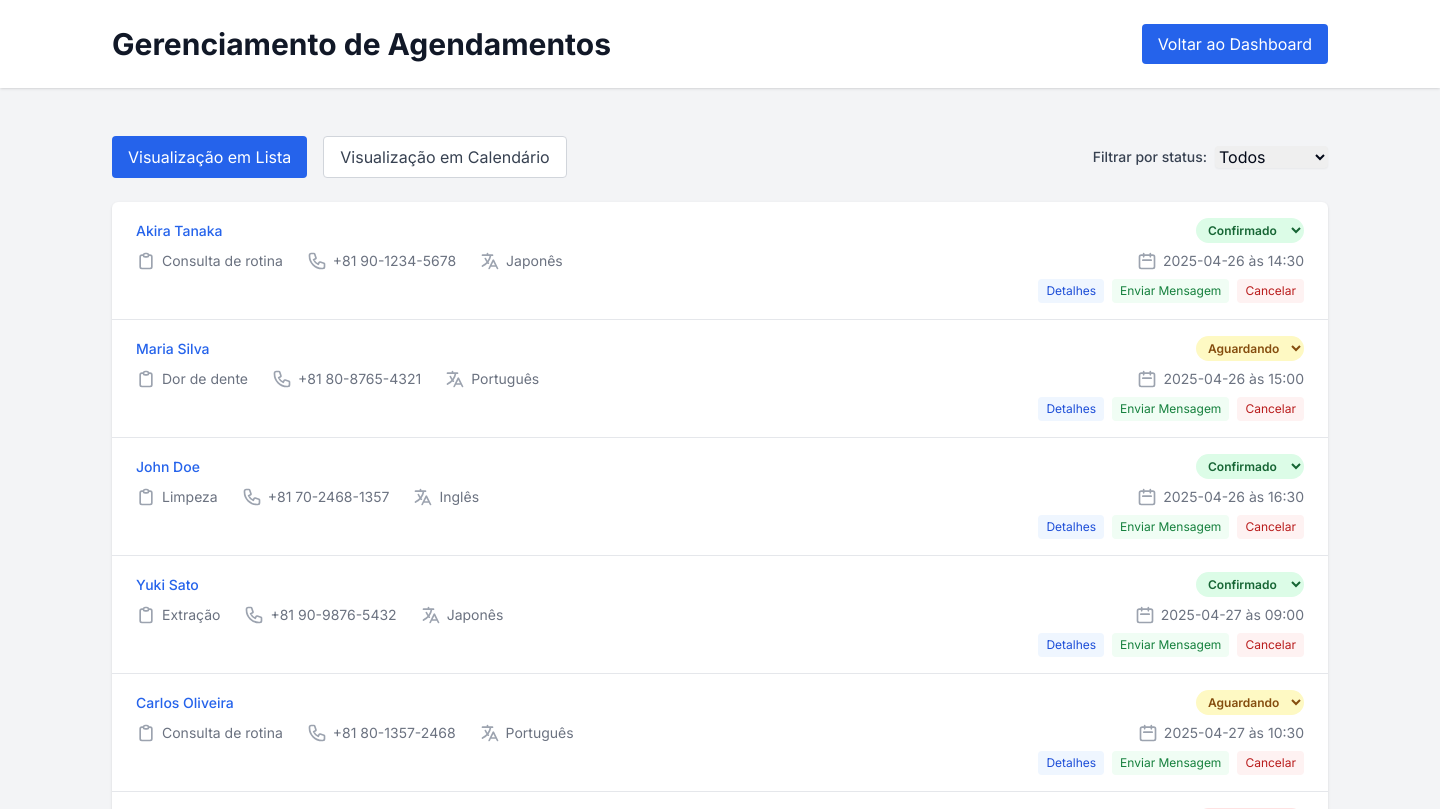
Test: AgendamentosPage › filtra agendamentos por status
The image size is (1440, 809).
Expected: the text "Akira Tanaka" is shown, x1=136 y1=220 x2=222 y2=240
Expected: the text "Maria Silva" is shown, x1=136 y1=338 x2=210 y2=358
# Filtrar por status "Confirmado"
Select "Confirmado" in the dropdown labelled "Filtrar por status:" at [1272, 157], box x1=1215 y1=146 x2=1328 y2=168
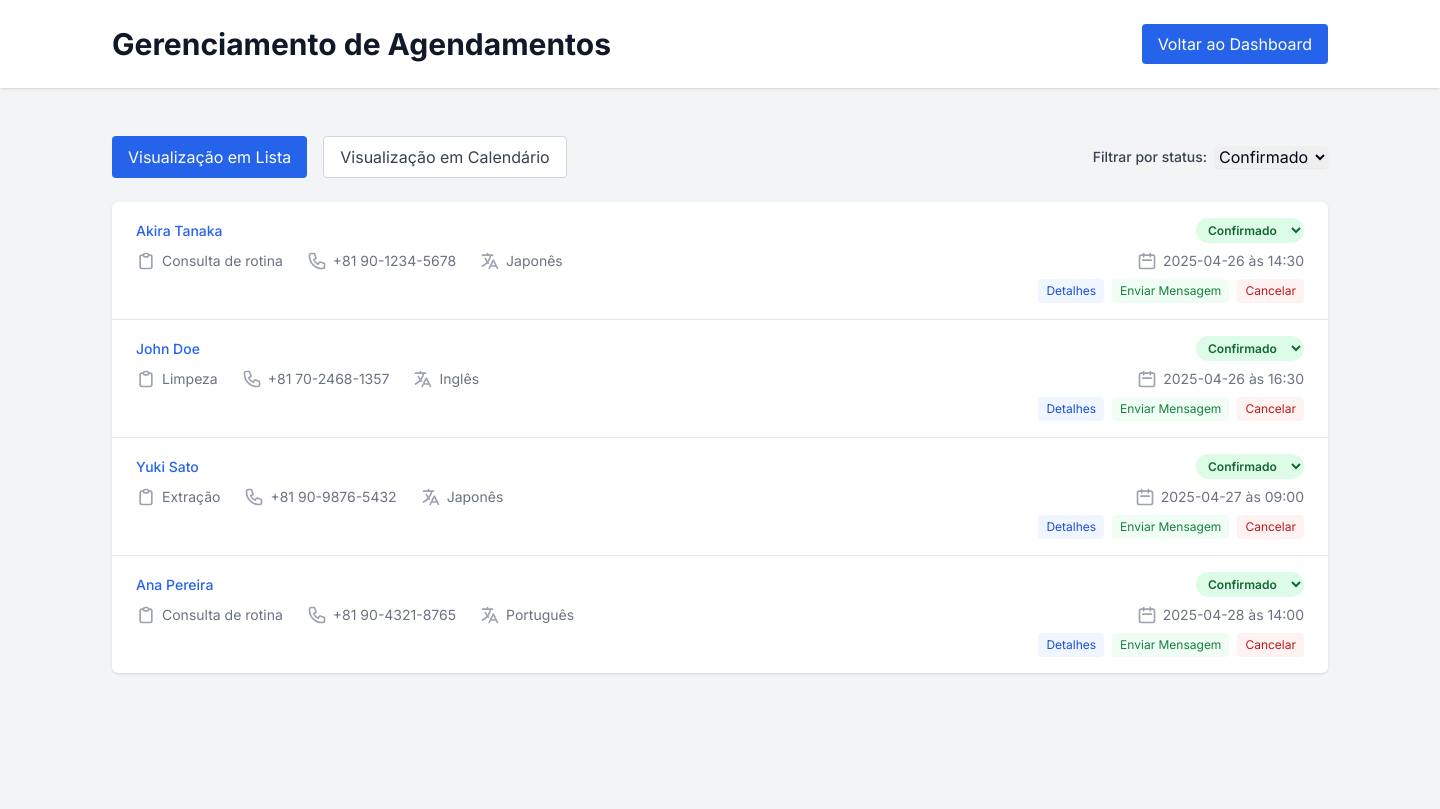
Expected: the text "Akira Tanaka" is shown, x1=136 y1=220 x2=222 y2=240
Now the text "Maria Silva" is gone
# Filtrar por status "Aguardando"
Select "Aguardando" in the dropdown labelled "Filtrar por status:" at [1272, 157], box x1=1215 y1=146 x2=1328 y2=168
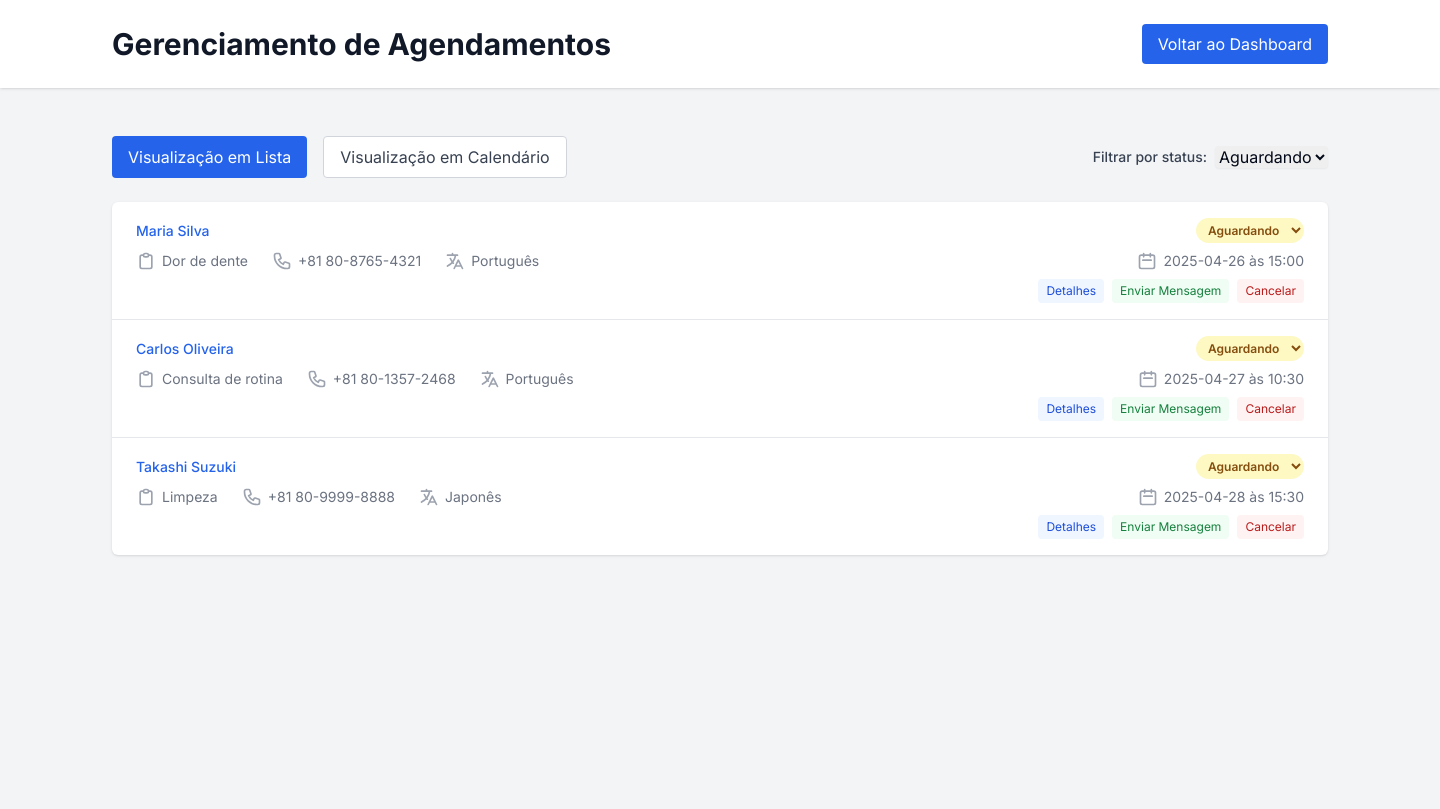
Now the text "Akira Tanaka" is gone
Now the text "Maria Silva" is shown, box x1=136 y1=220 x2=210 y2=240
